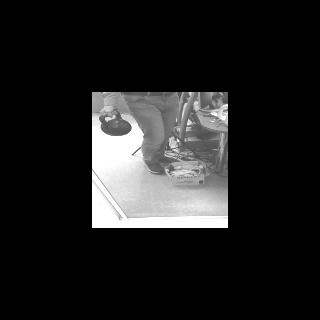kettlebell: (98, 111, 131, 137)
